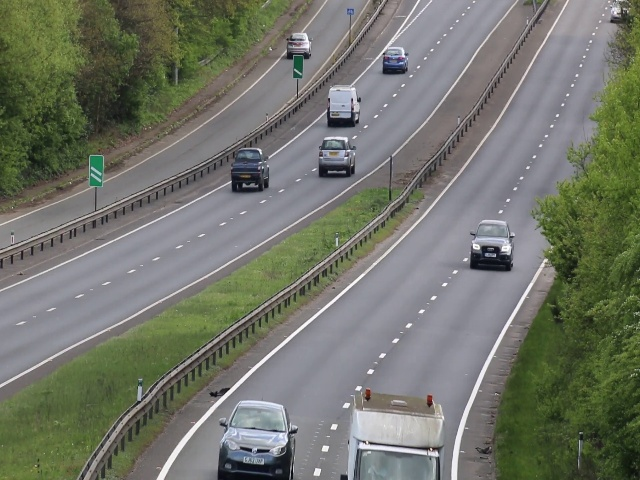car: (347, 392, 448, 480), (218, 397, 296, 480), (470, 218, 515, 273), (232, 147, 271, 193), (317, 134, 357, 178), (325, 85, 361, 126), (284, 30, 315, 59), (382, 44, 410, 75)
